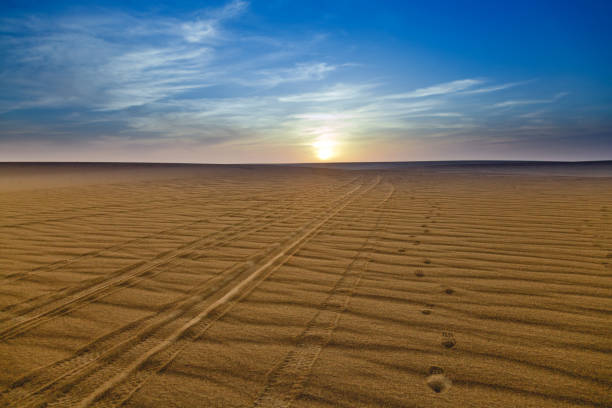human_foot_print: (426, 366, 451, 392), (441, 331, 456, 348), (421, 303, 433, 314), (428, 366, 443, 374), (415, 269, 424, 276), (444, 288, 454, 294), (421, 309, 431, 314), (398, 248, 405, 252)
